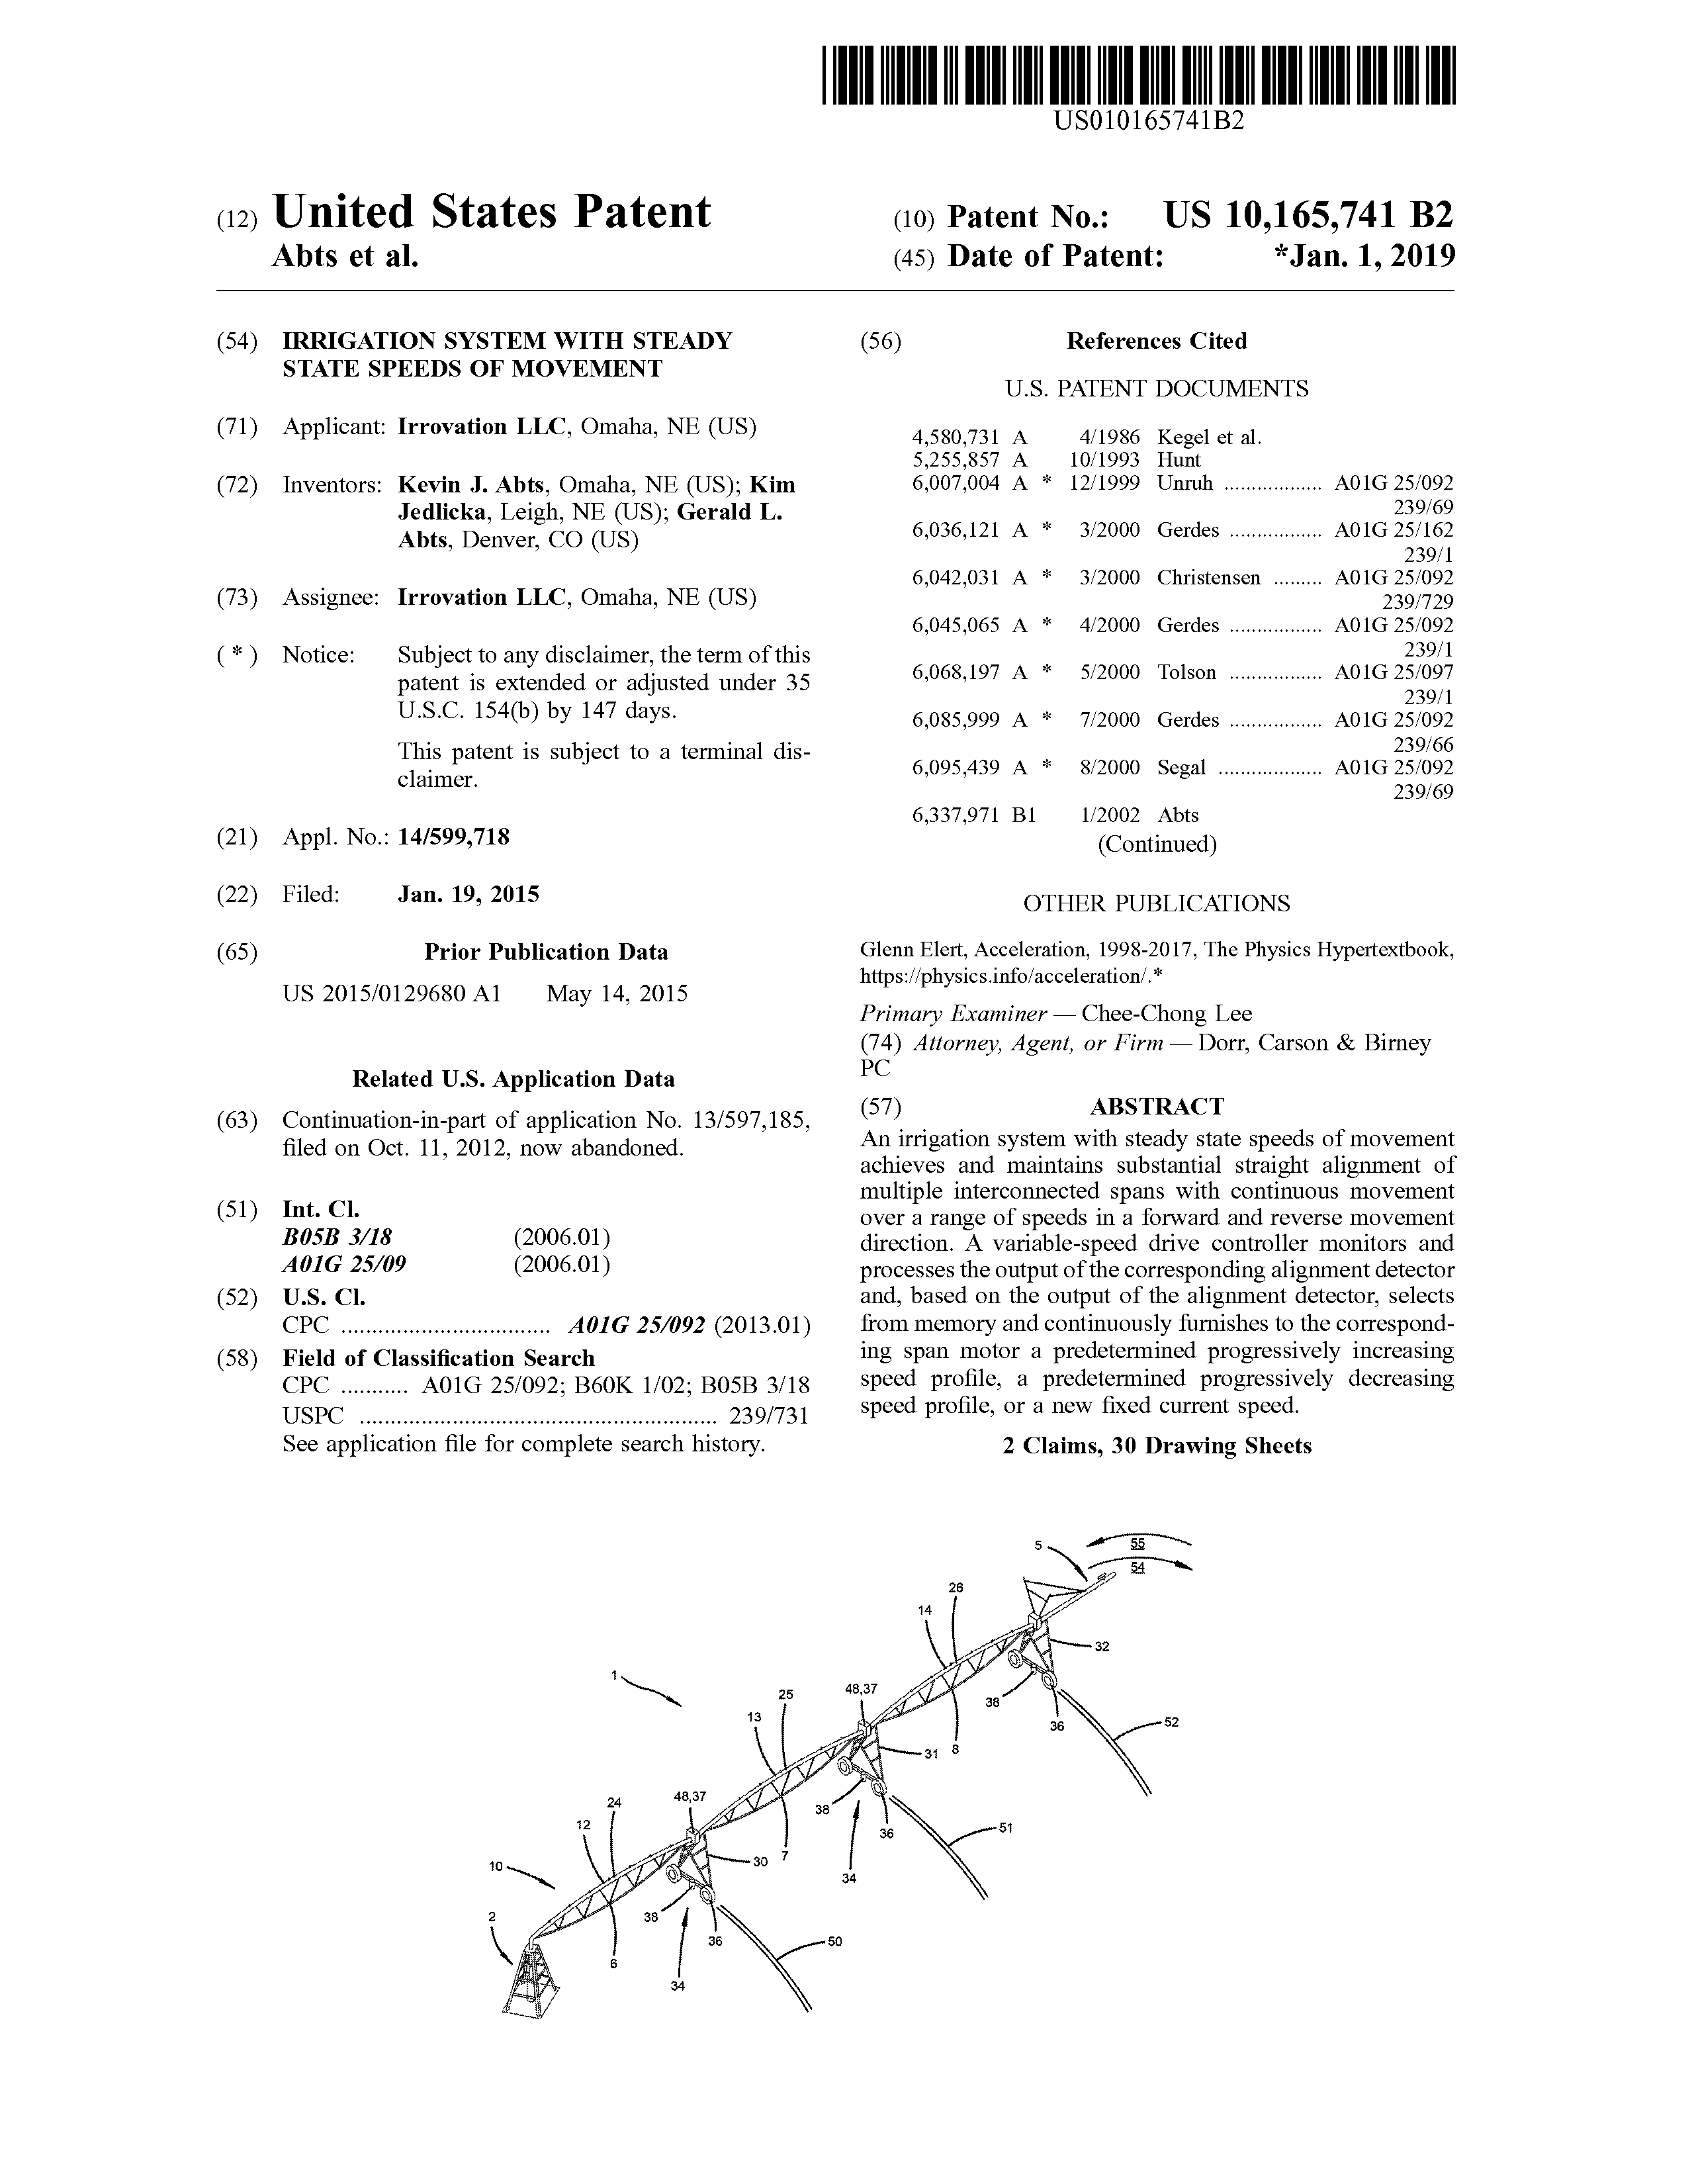patent image: (492, 1508, 1251, 2040)
